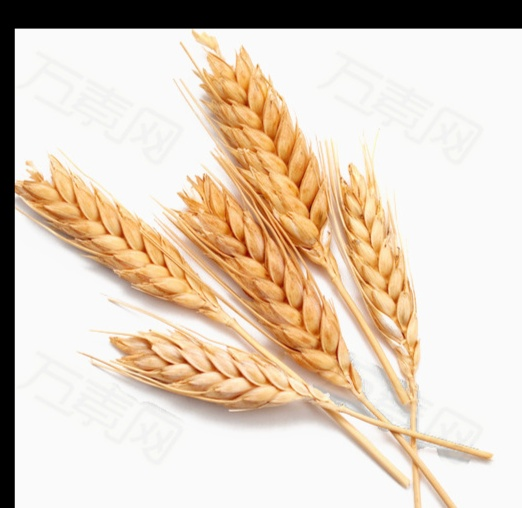wheat: (188, 37, 373, 340), (16, 150, 266, 350), (193, 183, 381, 416), (316, 151, 437, 415), (55, 315, 338, 407)
